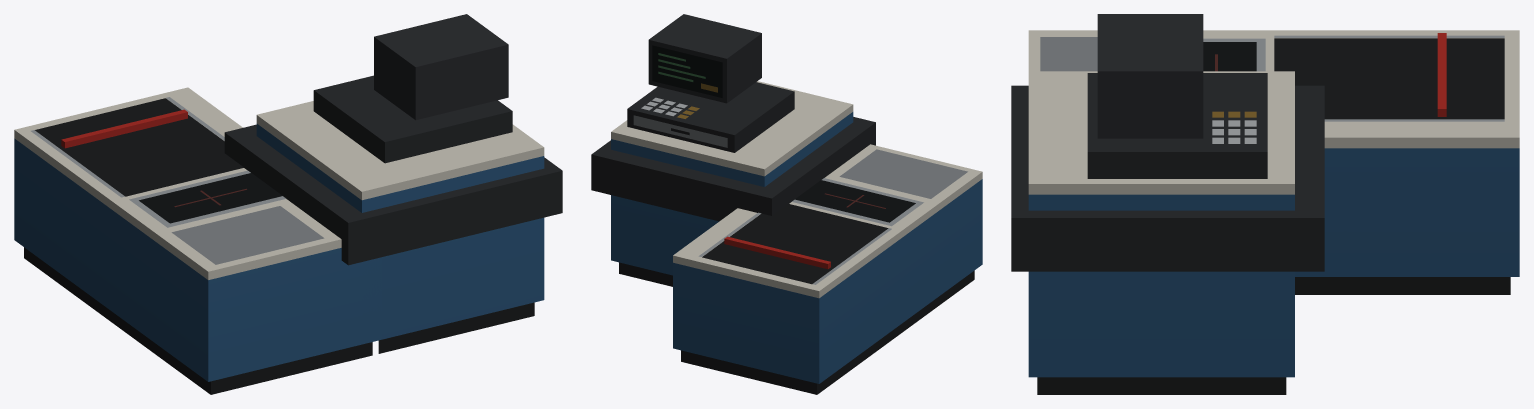
The model's file is shop.checkout.blue.glb.
The picture shows the model from 3 angles, left to right: view 1: azimuth 30°, elevation 25°; view 2: azimuth 150°, elevation 25°; view 3: azimuth 270°, elevation 25°; orthographic projection. The views are drawn at different scales.
Parts seen in each view (by area): view 1: shop_checkout_blue; view 2: shop_checkout_blue; view 3: shop_checkout_blue.
Boxes of the visible parts, left/top/right/bottom form: shop_checkout_blue: left=14, top=14, right=562, bottom=394; shop_checkout_blue: left=591, top=14, right=982, bottom=394; shop_checkout_blue: left=1011, top=14, right=1519, bottom=394.
Size of what is drawn, in the model's own units: 1.72 by 1.2 by 1.72.
